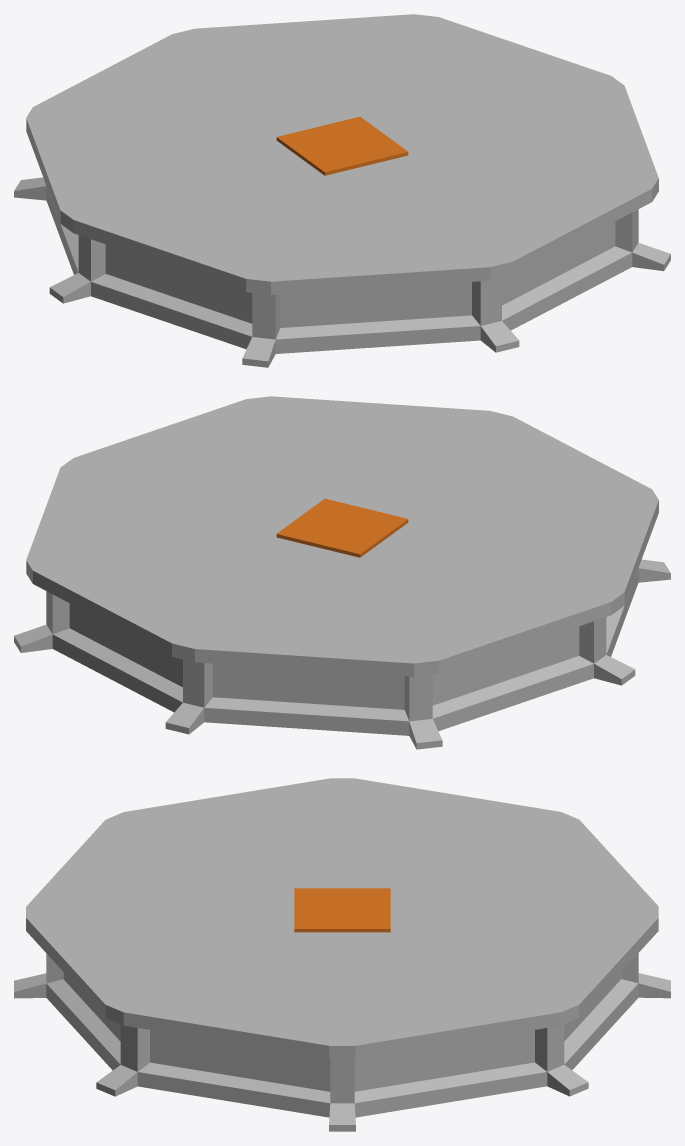
Rendered from Trident podium 1.fbx.
3 renders of one model, top to bottom at view 1: azimuth 30°, elevation 25°; view 2: azimuth 150°, elevation 25°; view 3: azimuth 270°, elevation 25°, orthographic.
Visible parts, largest first — view 1: Real_Podium, Trident_podium; view 2: Real_Podium, Trident_podium; view 3: Real_Podium, Trident_podium.
Boxes of the visible parts, x1,y1,x2,y2 form: Real_Podium: (14,14,670,367); Trident_podium: (276,116,408,175); Real_Podium: (14,396,670,749); Trident_podium: (276,498,408,557); Real_Podium: (14,778,670,1131); Trident_podium: (294,888,390,932).
Size of the model in its own units: 684 by 100 by 684.
